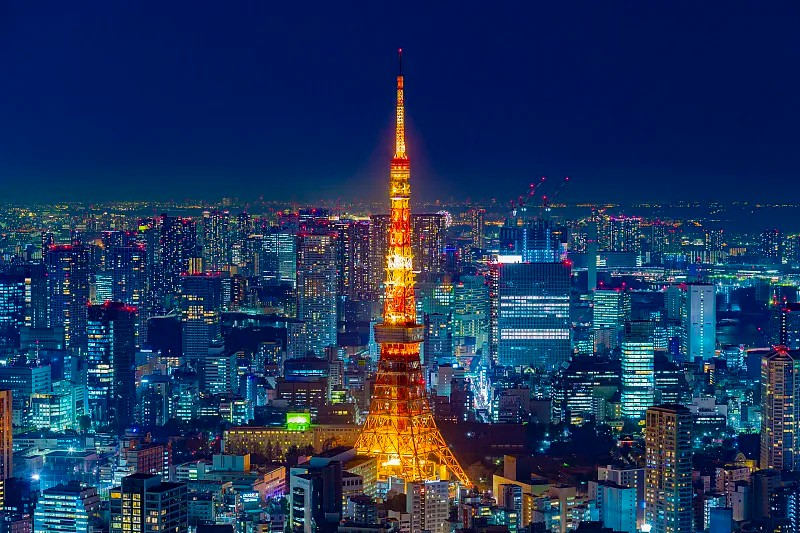Tokyo: (357, 45, 474, 488)
